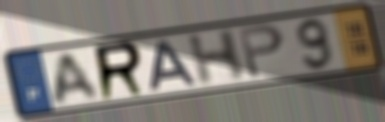9: (293, 16, 336, 72)
A: (52, 50, 103, 107), (148, 38, 201, 92)
H: (185, 26, 247, 89)
P: (236, 22, 287, 82)
R: (92, 39, 149, 104)
